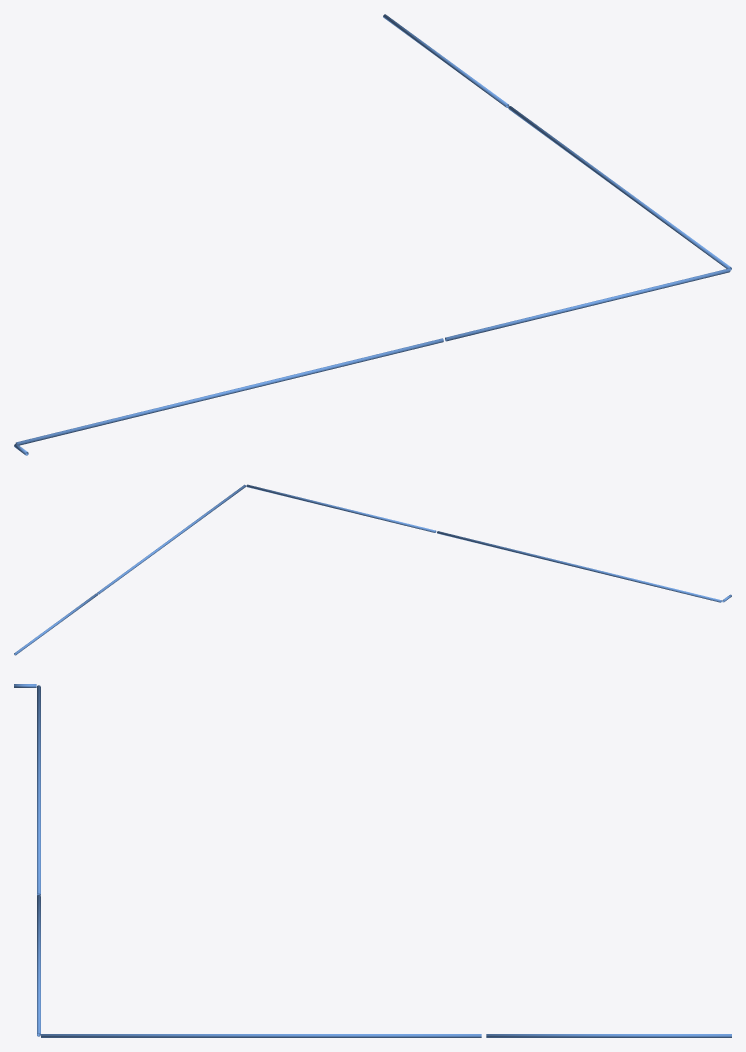
Rendered from pipes_supply__plumbing__5369bad1.glb.
The picture shows the model from 3 angles, top to bottom: view 1: azimuth 30°, elevation 25°; view 2: azimuth 150°, elevation 25°; view 3: azimuth 270°, elevation 25°; orthographic projection. The views are drawn at different scales.
Parts seen in each view (by area): view 1: pipe_supply_cold_trunk_flo_s__pex.901; view 2: pipe_supply_cold_trunk_flo_s__pex.901; view 3: pipe_supply_cold_trunk_flo_s__pex.901.
Boxes of the visible parts, x1=… form: pipe_supply_cold_trunk_flo_s__pex.901: x1=14, y1=14, x2=731, y2=455; pipe_supply_cold_trunk_flo_s__pex.901: x1=14, y1=484, x2=731, y2=655; pipe_supply_cold_trunk_flo_s__pex.901: x1=14, y1=684, x2=731, y2=1037.
Size of the model in its own units: 4.59 by 0.0222 by 3.96.
